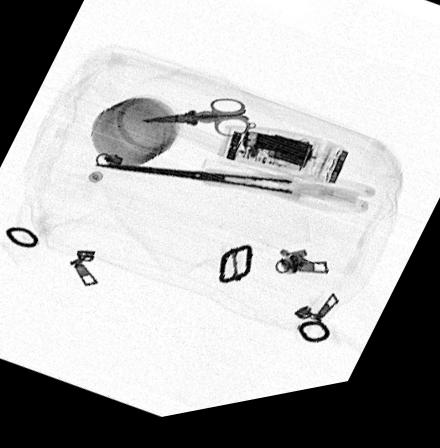Scissors: (94, 168, 376, 227)
